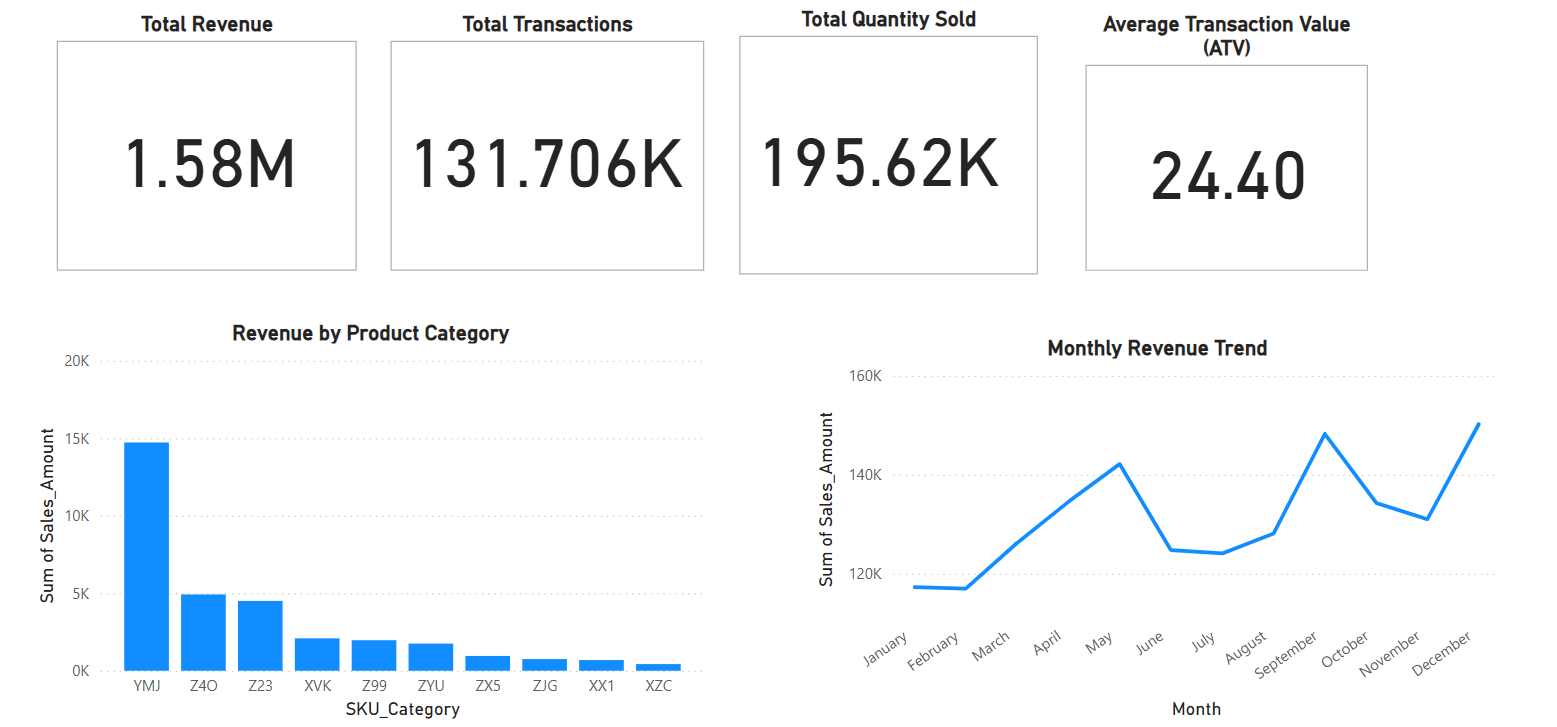

What the dashboard file says about the page in this screenshot:
{"tool":"powerbi","page":{"name":"Overall 1","canvas":[1280,720],"ordinal":0},"visuals":[{"type":"cardVisual","title":"Total Revenue","fields":{"Data":["Sum(retail_cleaned.Sales_Amount)"]},"box":[43,23,250,214],"z":0},{"type":"cardVisual","title":"Total Transactions","fields":{"Data":["CountNonNull(retail_cleaned.Transaction_ID)"]},"box":[310,23,261,214],"z":1000},{"type":"cardVisual","title":"Total Quantity Sold","fields":{"Data":["Sum(retail_cleaned.Quantity)"]},"box":[589,19,249,221],"z":2000},{"type":"cardVisual","title":"Average Transaction Value (ATV)","fields":{"Data":["retail_cleaned.ATV"]},"box":[866,23,236,214],"z":3000},{"type":"clusteredColumnChart","title":"Revenue by Product Category","fields":{"Category":["retail_cleaned.SKU_Category"],"Y":["Sum(retail_cleaned.Sales_Amount)"]},"box":[27,270,544,325],"z":4000},{"type":"lineChart","title":"Monthly Revenue Trend","fields":{"Category":["retail_cleaned.Date.Variation.Date Hierarchy.Month","retail_cleaned.Date.Variation.Date Hierarchy.Day"],"Y":["Sum(retail_cleaned.Sales_Amount)"]},"box":[650,282,557,313],"z":5000}]}

Visuals, with their boxes on the page's 1280x720 design canvas (x1, y1, x2, y2). These are canvas units, not pixel positions in the 1557x727 screenshot, which may show the page scaled, cropped or inside an application window:
"Total Revenue" cardVisual: 43,23,293,237
"Total Transactions" cardVisual: 310,23,571,237
"Total Quantity Sold" cardVisual: 589,19,838,240
"Average Transaction Value (ATV)" cardVisual: 866,23,1102,237
"Revenue by Product Category" clusteredColumnChart: 27,270,571,595
"Monthly Revenue Trend" lineChart: 650,282,1207,595
